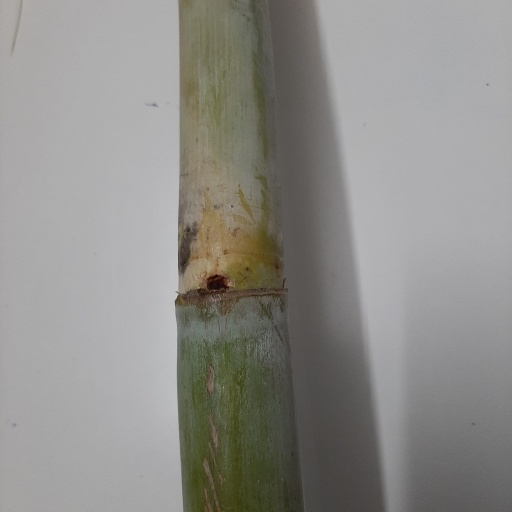Damage_Bud: (203, 273, 232, 290)
